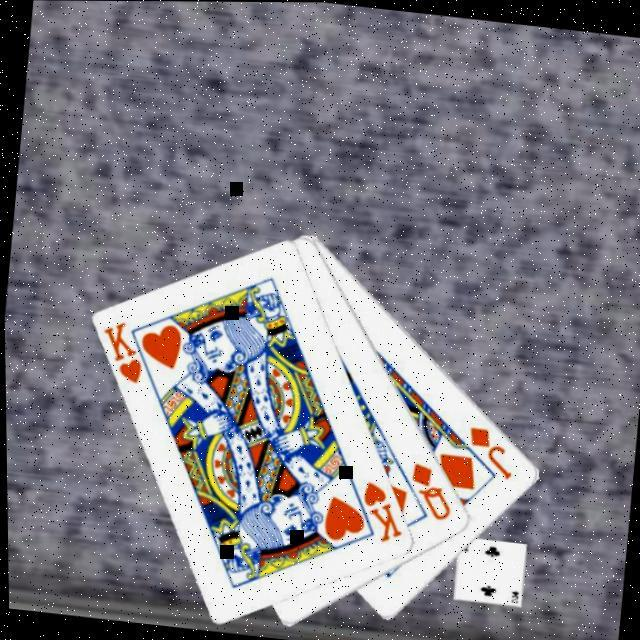JD: (461, 422, 520, 483)
KH: (355, 477, 411, 548), (95, 318, 151, 389)
QD: (402, 458, 458, 525)
